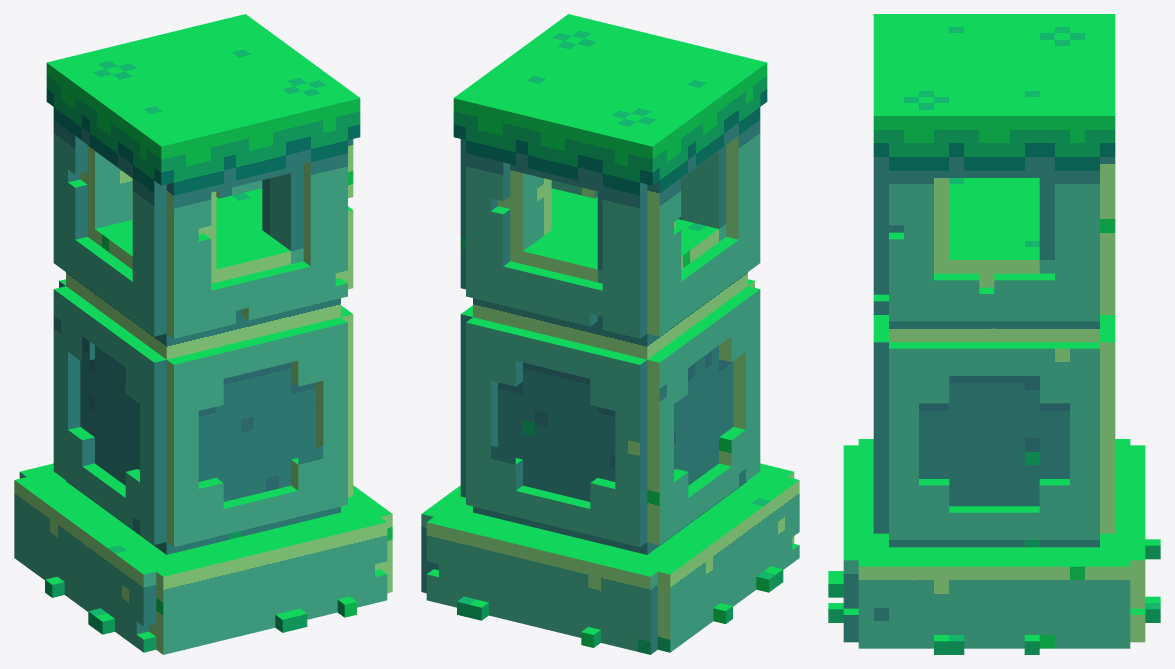
The model's file is cube_pillarao.fezao.glb.
3 renders of one model, left to right at view 1: azimuth 30°, elevation 25°; view 2: azimuth 150°, elevation 25°; view 3: azimuth 270°, elevation 25°, orthographic. The views are drawn at different scales.
Parts seen in each view (by area): view 1: CUBE_PILLARAO; view 2: CUBE_PILLARAO; view 3: CUBE_PILLARAO.
Boxes of the visible parts, box(x1,y1,x2,y2) form: CUBE_PILLARAO: box(14, 14, 392, 654); CUBE_PILLARAO: box(421, 14, 799, 654); CUBE_PILLARAO: box(828, 14, 1160, 654).
Size of the model in its own units: 1.38 by 2.38 by 1.38.
1 material, 1 textured.
